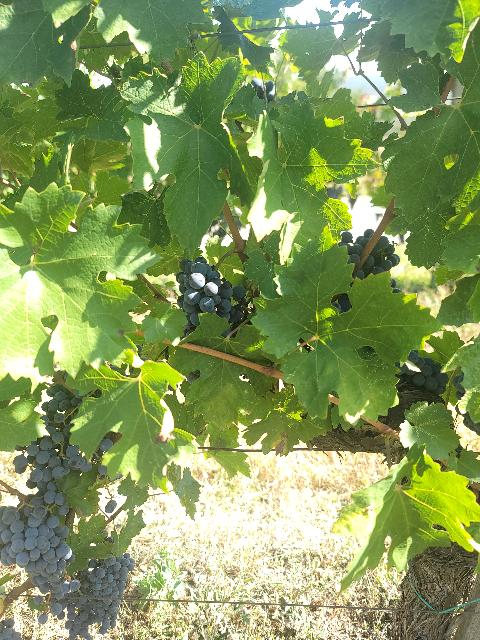grapes: (0, 496, 80, 615), (176, 256, 239, 338), (79, 552, 134, 630), (68, 595, 94, 640)
